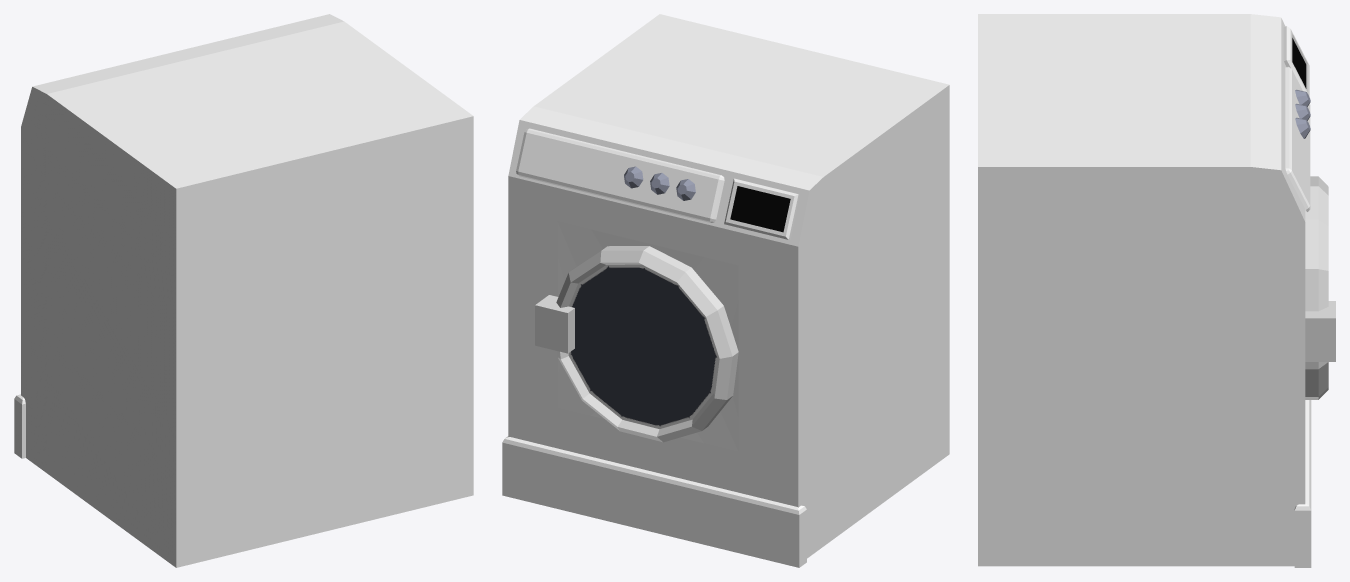
Rendered from Lavatrice.fbx.
3 renders of one model, left to right at view 1: azimuth 30°, elevation 25°; view 2: azimuth 150°, elevation 25°; view 3: azimuth 270°, elevation 25°, orthographic. The views are drawn at different scales.
Visible parts, largest first — view 1: Lavatrice; view 2: Lavatrice, Lavatrice_Sportello; view 3: Lavatrice, Lavatrice_Sportello.
Part boxes in pixels (x1,y1,x2,y2): Lavatrice: (14,14,473,567); Lavatrice: (502,14,949,567); Lavatrice_Sportello: (535,246,738,442); Lavatrice: (978,14,1311,567); Lavatrice_Sportello: (1305,176,1335,399).
Size of the model in its own units: 114 by 135 by 110.
